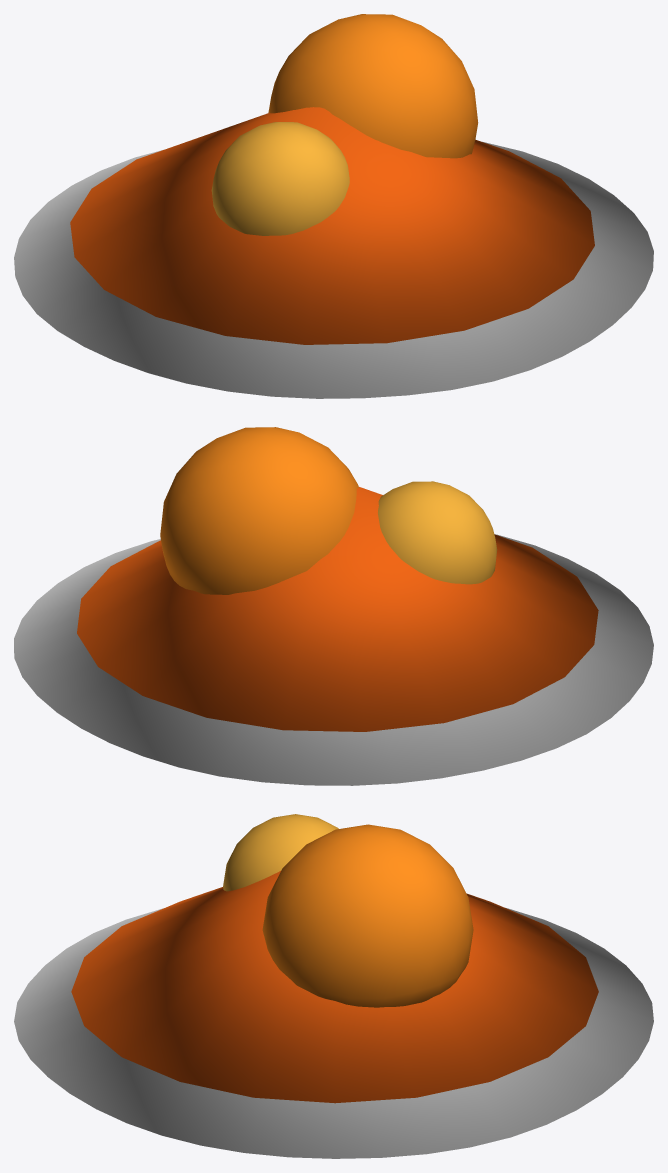
File: molten-glowing-sand.obj
3 renders of one model, top to bottom at view 1: azimuth 30°, elevation 25°; view 2: azimuth 150°, elevation 25°; view 3: azimuth 270°, elevation 25°, orthographic.
Visible parts, largest first — view 1: molten-glowing-sand; view 2: molten-glowing-sand; view 3: molten-glowing-sand.
Part boxes in pixels (x1=…): molten-glowing-sand: x1=14, y1=14, x2=653, y2=398; molten-glowing-sand: x1=14, y1=427, x2=653, y2=785; molten-glowing-sand: x1=14, y1=814, x2=653, y2=1158.
Bounding box in the file's own units: 0.974 × 0.36 × 0.9705.
